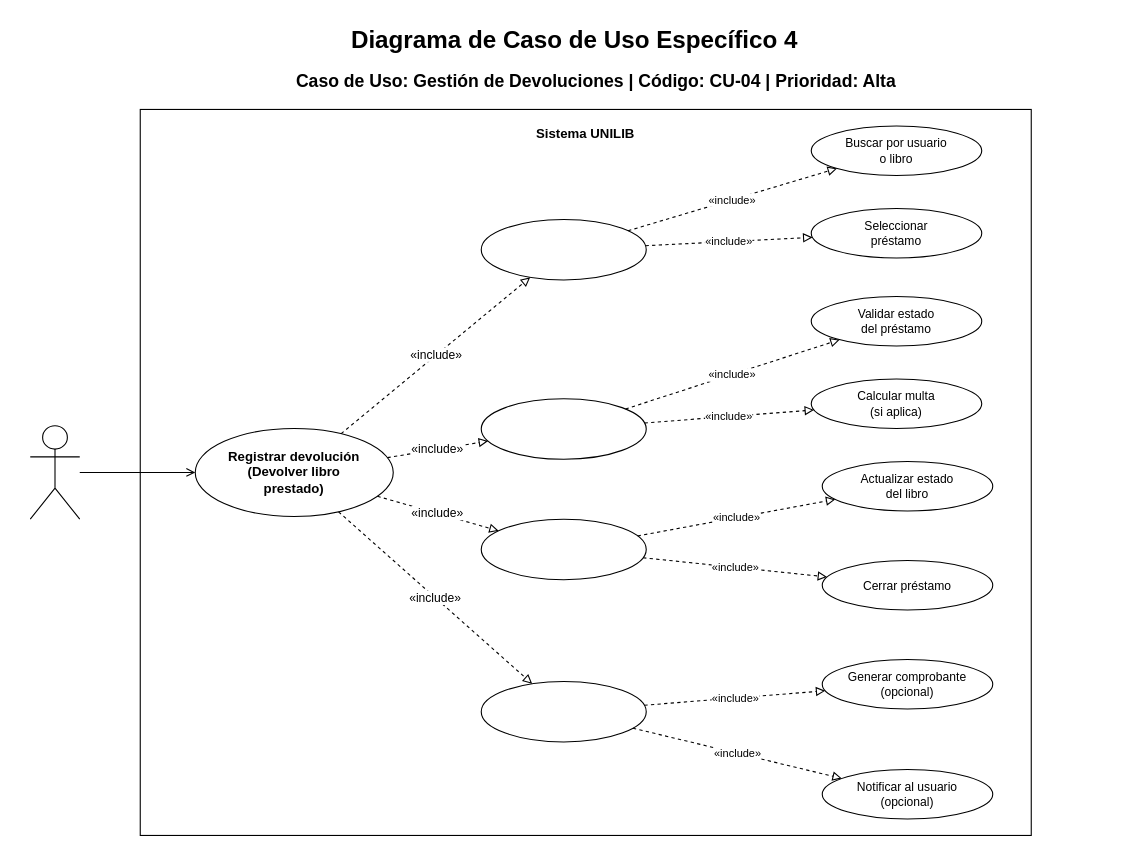
Image size: 1139x855. Some labels were removed from this diagram. The centre of each missing label's shape, as x and y in pixels:
Bibliotecario: pixel 54 472
Buscar préstamo activo: pixel 563 249
Confirmar devolución: pixel 563 711
Registrar devolución en el sistema: pixel 563 549
Verificar información del préstamo: pixel 563 428
